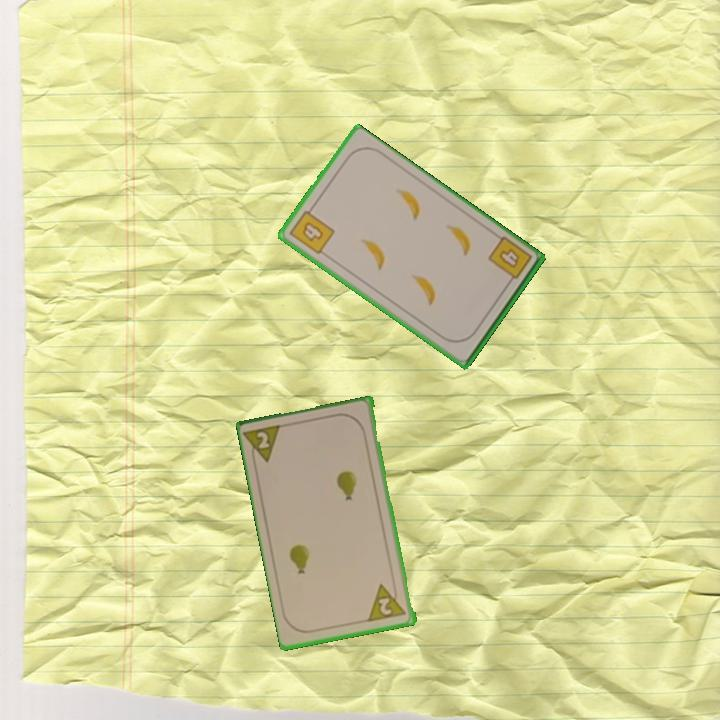2p: (242, 421, 286, 469), (366, 579, 409, 625)
4b: (484, 233, 535, 289), (286, 203, 338, 257)
